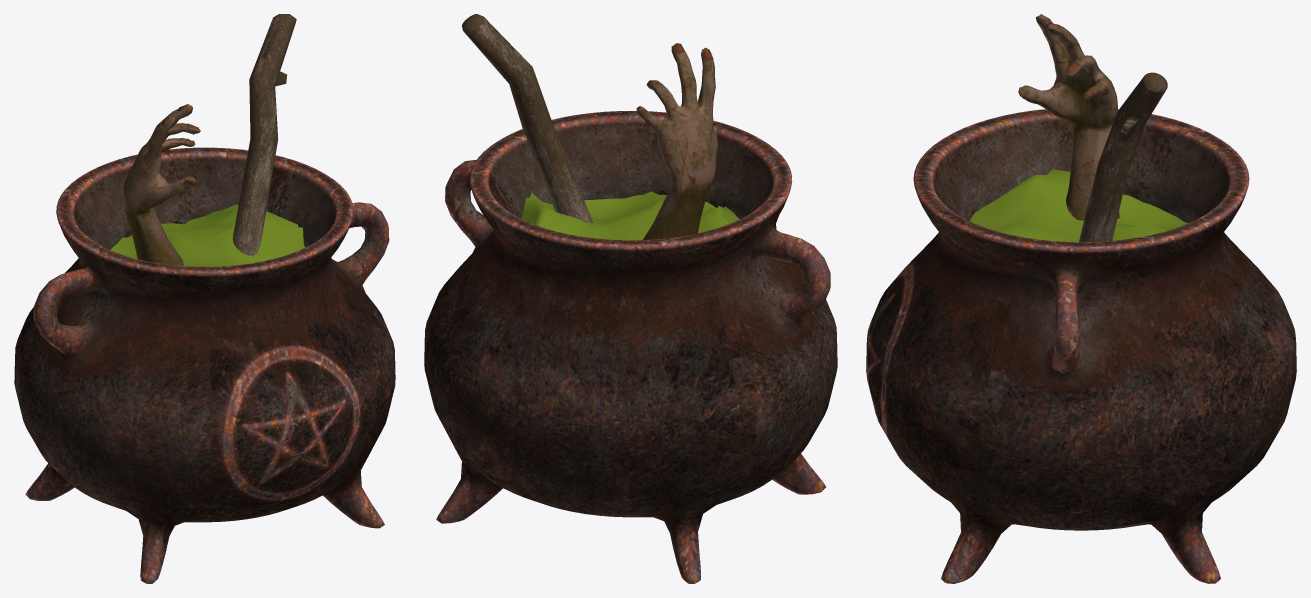
File: cauldron.glb
3 views of the same model, side by side, from view 1: azimuth 30°, elevation 25°; view 2: azimuth 150°, elevation 25°; view 3: azimuth 270°, elevation 25° (orthographic). The views are drawn at different scales.
Visible parts, largest first — view 1: cauldron_lp, spatula_lp, hand_lp, broth_lp; view 2: cauldron_lp, hand_lp, spatula_lp, broth_lp; view 3: cauldron_lp, hand_lp, broth_lp, spatula_lp.
Boxes of the visible parts, x1,y1,x2,y2 form: cauldron_lp: (14,147,395,583); spatula_lp: (232,14,296,255); hand_lp: (122,104,200,265); broth_lp: (110,204,304,266); cauldron_lp: (424,111,837,583); hand_lp: (636,43,718,239); spatula_lp: (462,14,592,222); broth_lp: (521,191,739,240); cauldron_lp: (866,109,1296,583); hand_lp: (1018,14,1119,220); broth_lp: (970,169,1188,241); spatula_lp: (1079,72,1167,242).
Size of the model in its own units: 135 by 164 by 126.
Materials: 4 (4 with a texture image).
